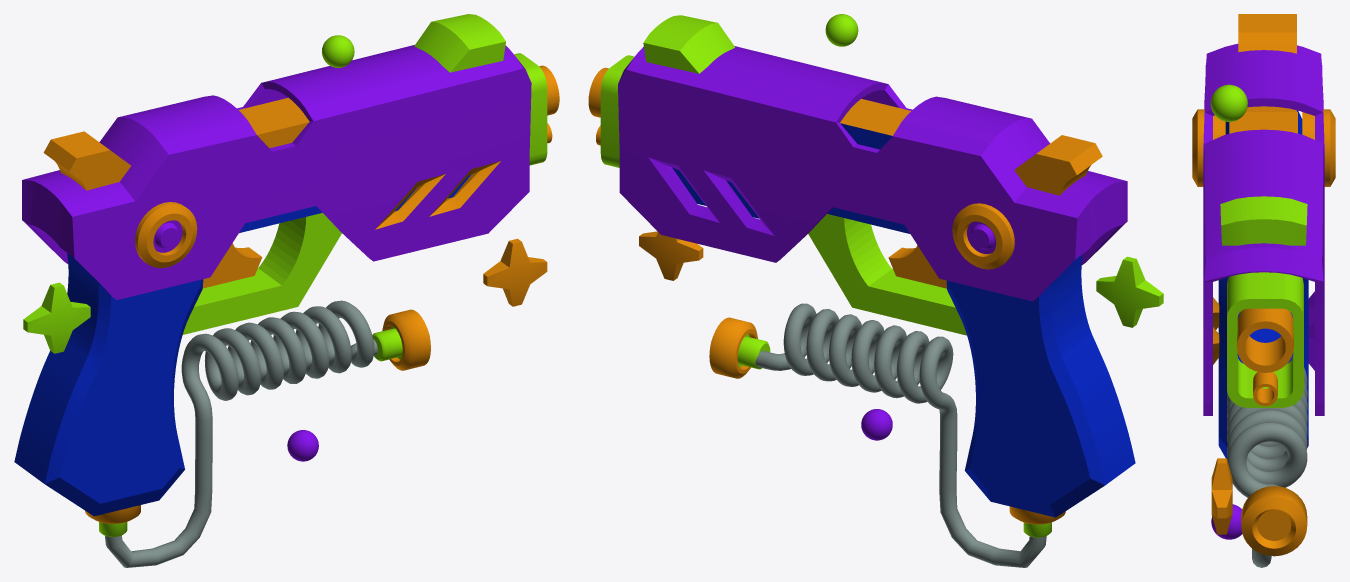
File: GAMES GUN.glb
3 renders of one model, left to right at view 1: azimuth 30°, elevation 25°; view 2: azimuth 150°, elevation 25°; view 3: azimuth 270°, elevation 25°, orthographic. The views are drawn at different scales.
Visible parts, largest first — view 1: Plane, Plane.001, Spiral, Plane.002, Cylinder.001, Plane.004, Cylinder.033, STARS.054, STARS.053, Cube, Plane.003, Cylinder.032 (+2 smaller); view 2: Plane, Plane.001, Spiral, Plane.002, Cylinder.001, Plane.004, Cylinder.033, STARS.054, Cube, STARS.053, Plane.003, Cylinder.032 (+2 smaller); view 3: Plane, Spiral, Cube, Plane.001, Cylinder.033, Cylinder, Plane.004, Cylinder.001, STARS.053, Sphere.048, Cylinder.031, Sphere.047.
Part boxes in pixels (left/top/right/bottom): Plane: left=22, top=14, right=531, bottom=299; Plane.001: left=14, top=97, right=471, bottom=516; Spiral: left=105, top=300, right=377, bottom=567; Plane.002: left=182, top=213, right=341, bottom=334; Cylinder.001: left=135, top=202, right=197, bottom=268; Plane.004: left=43, top=131, right=130, bottom=190; Cylinder.033: left=372, top=309, right=430, bottom=370; STARS.054: left=23, top=282, right=90, bottom=353; STARS.053: left=483, top=238, right=547, bottom=306; Cube: left=514, top=53, right=547, bottom=165; Plane.003: left=202, top=243, right=262, bottom=288; Cylinder.032: left=85, top=505, right=140, bottom=536; Plane: left=618, top=15, right=1127, bottom=301; Plane.001: left=672, top=99, right=1135, bottom=517; Spiral: left=755, top=303, right=1046, bottom=567; Plane.002: left=808, top=214, right=966, bottom=335; Cylinder.001: left=952, top=203, right=1014, bottom=269; Plane.004: left=1014, top=135, right=1102, bottom=195; Cylinder.033: left=709, top=317, right=770, bottom=378; STARS.054: left=1096, top=256, right=1163, bottom=327; Cube: left=600, top=55, right=634, bottom=167; STARS.053: left=639, top=231, right=703, bottom=280; Plane.003: left=888, top=245, right=946, bottom=288; Cylinder.032: left=1009, top=506, right=1065, bottom=537; Plane: left=1203, top=43, right=1324, bottom=415; Spiral: left=1227, top=367, right=1307, bottom=567; Cube: left=1227, top=272, right=1303, bottom=407; Plane.001: left=1218, top=110, right=1308, bottom=458; Cylinder.033: left=1241, top=486, right=1307, bottom=556; Cylinder: left=1237, top=308, right=1293, bottom=372; Plane.004: left=1238, top=14, right=1296, bottom=111; Cylinder.001: left=1192, top=109, right=1335, bottom=186; STARS.053: left=1211, top=458, right=1232, bottom=534; Sphere.048: left=1210, top=84, right=1247, bottom=121; Cylinder.031: left=1253, top=372, right=1277, bottom=406; Sphere.047: left=1211, top=504, right=1242, bottom=539.
Bounding box in the file's own units: 2.39 × 2.1 × 0.4832.
